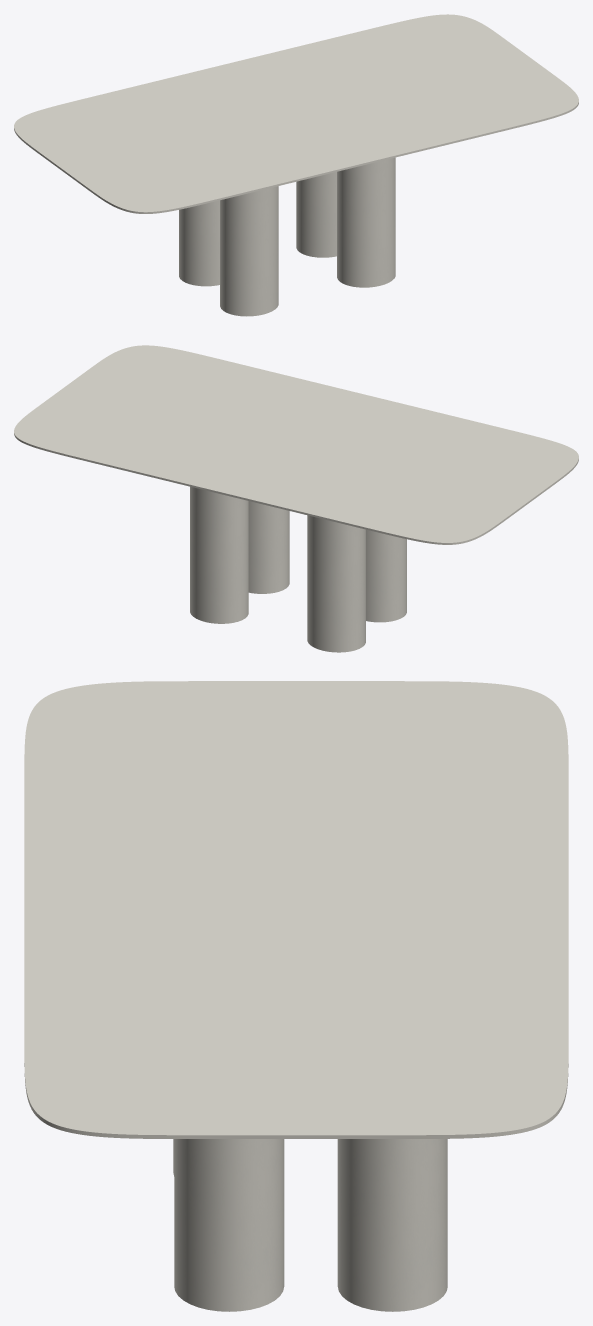
The model's file is pale_softrecta_facet_grove.glb.
3 views of the same model, one above another, from view 1: azimuth 30°, elevation 25°; view 2: azimuth 150°, elevation 25°; view 3: azimuth 270°, elevation 25° (orthographic). The views are drawn at different scales.
Parts seen in each view (by area): view 1: facet_softrecta, grove; view 2: facet_softrecta, grove; view 3: facet_softrecta, grove.
Part boxes in pixels (left/top/right/bottom): facet_softrecta: left=14, top=14, right=578, bottom=213; grove: left=179, top=157, right=395, bottom=316; facet_softrecta: left=14, top=345, right=578, bottom=544; grove: left=190, top=486, right=406, bottom=652; facet_softrecta: left=24, top=681, right=568, bottom=1138; grove: left=173, top=1139, right=447, bottom=1311.
Size of the model in its own units: 7.5 by 2.51 by 3.8.
1 material, 1 textured.
